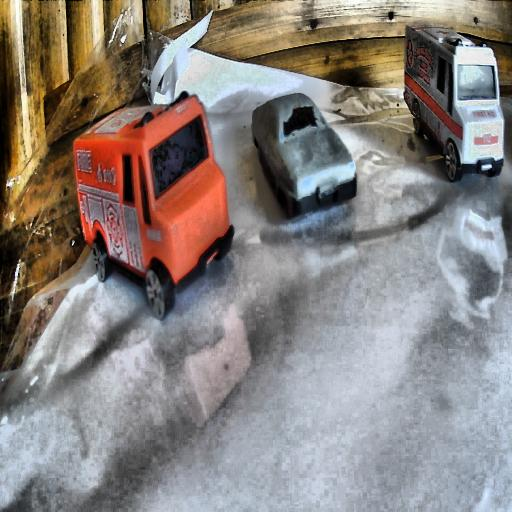ambulance: (403, 22, 503, 181)
fire_truck: (74, 91, 232, 321)
normal_car: (250, 89, 358, 220)
